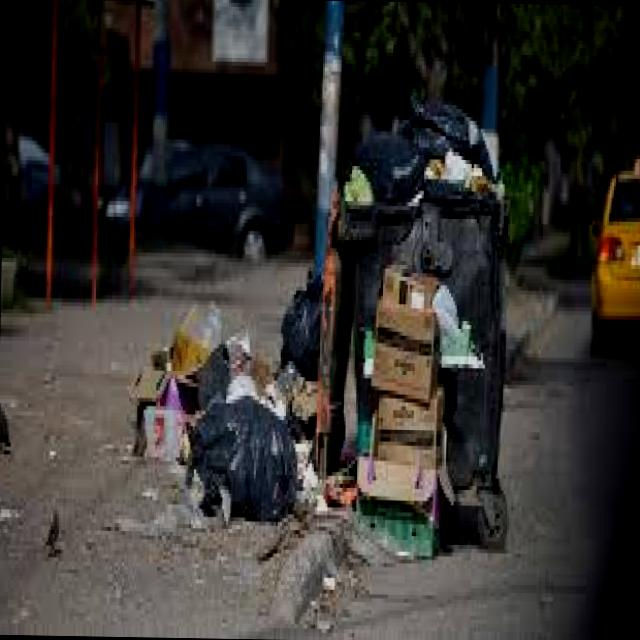garbage: (126, 71, 536, 563)
